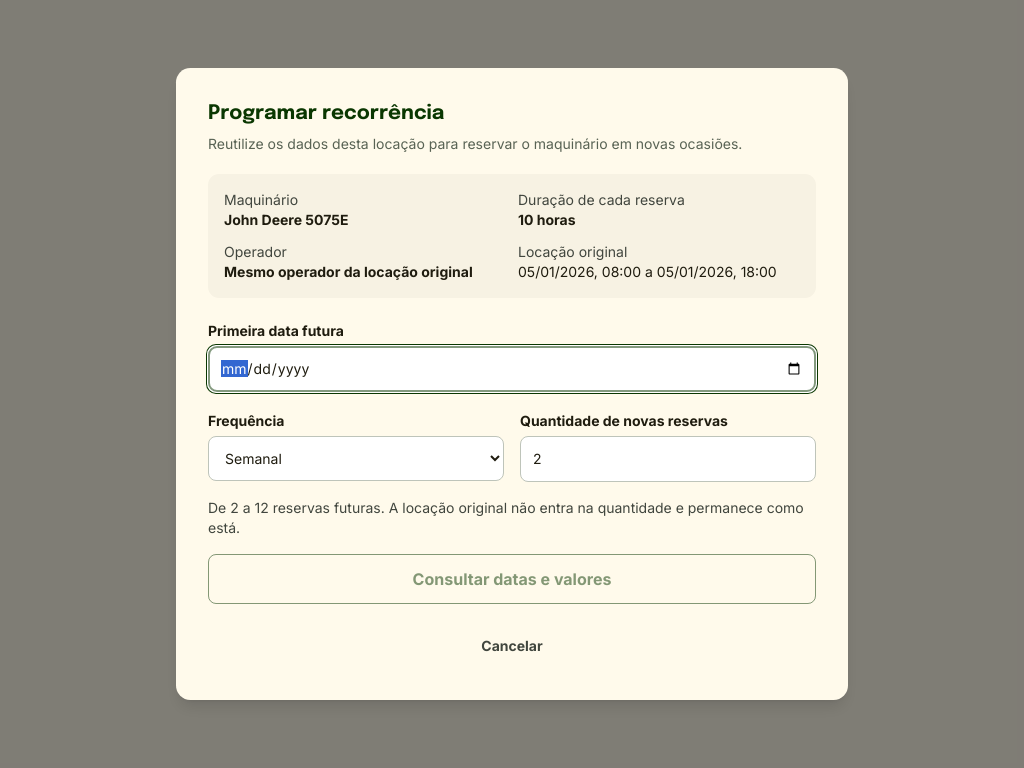
Test: programar recorrência › creates a valid stable UUID on HTTP deployments without randomUUID
In the date field labelled "Primeira data futura": point(512, 369) left=208, top=346, right=816, bottom=392, type "2099-10-05"
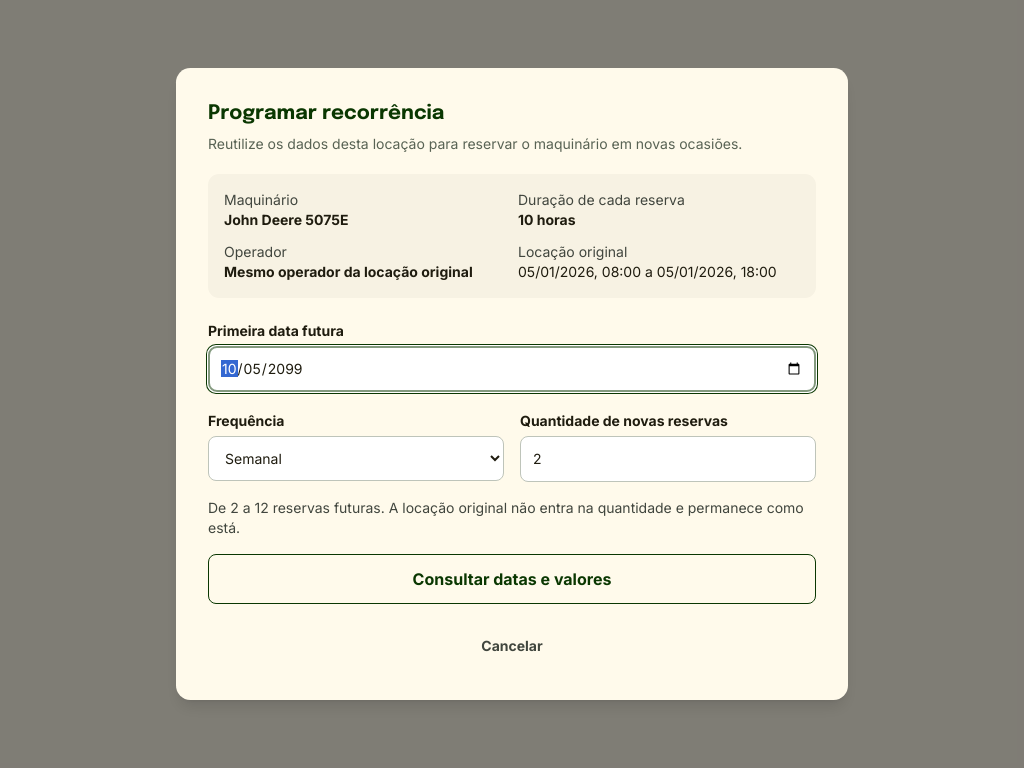
Click the button "Consultar datas e valores": point(512, 579) left=208, top=554, right=816, bottom=604
(page scrolled)
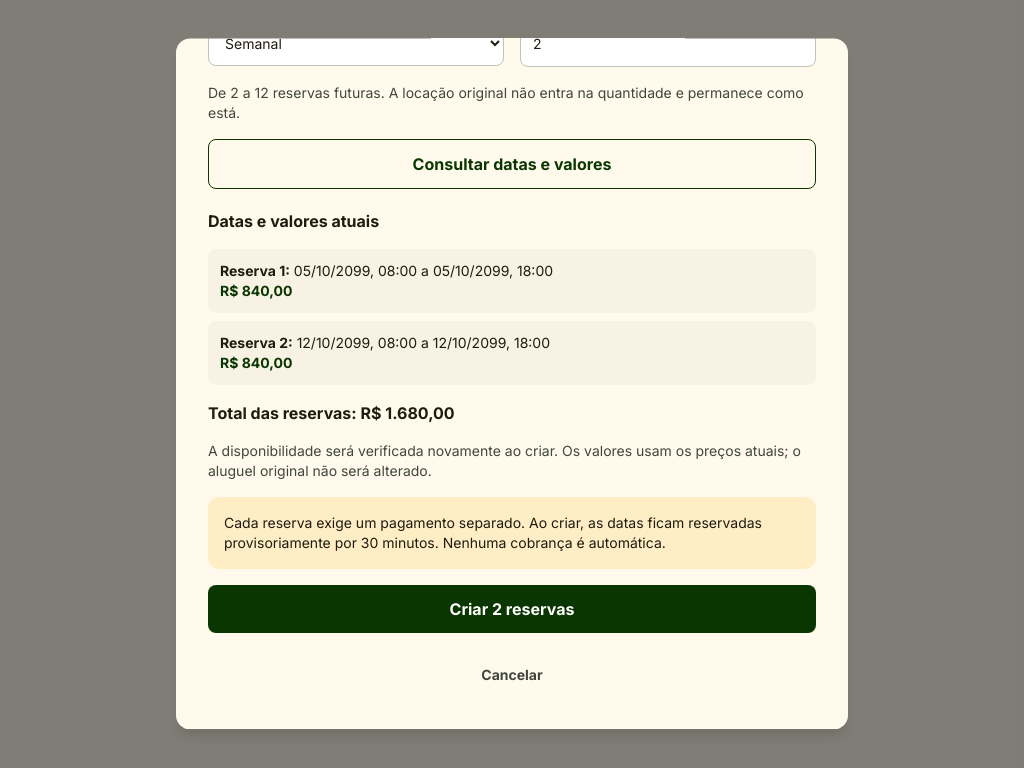
Result: the element named "Prévia da recorrência" is shown at left=208, top=209, right=816, bottom=633
Click the button "Criar 2 reservas": point(512, 609) left=208, top=585, right=816, bottom=633
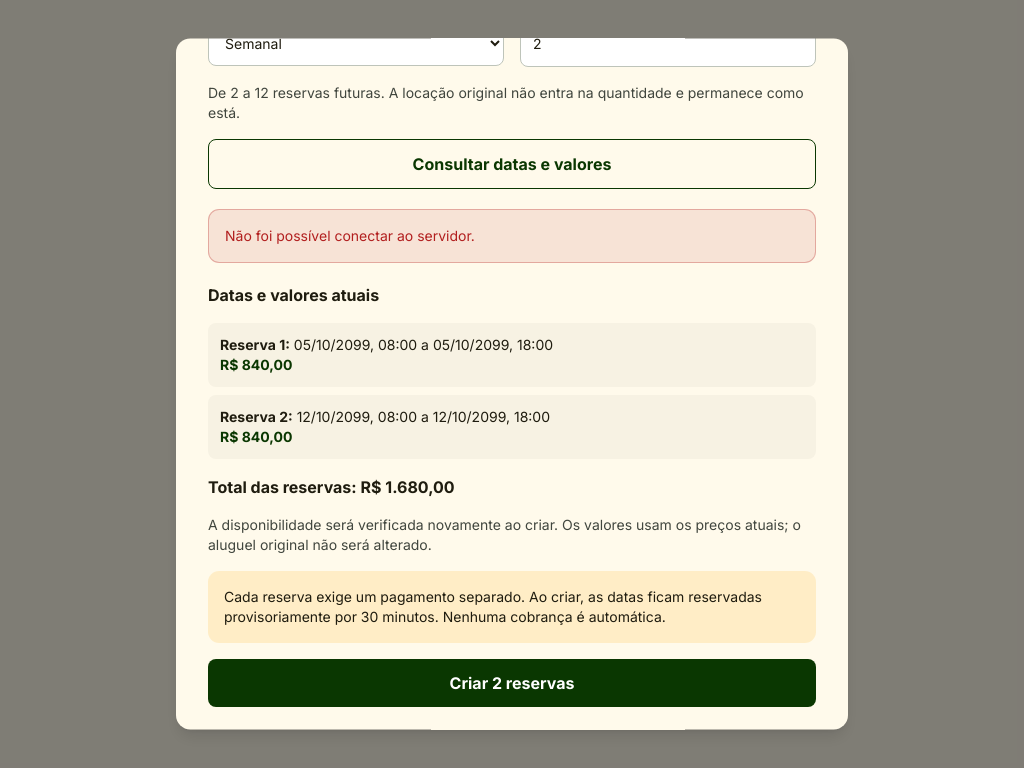
Result: the message "Não foi possível conectar ao servidor." is shown at left=208, top=209, right=816, bottom=263
Click the button "Criar 2 reservas": point(512, 683) left=208, top=659, right=816, bottom=707
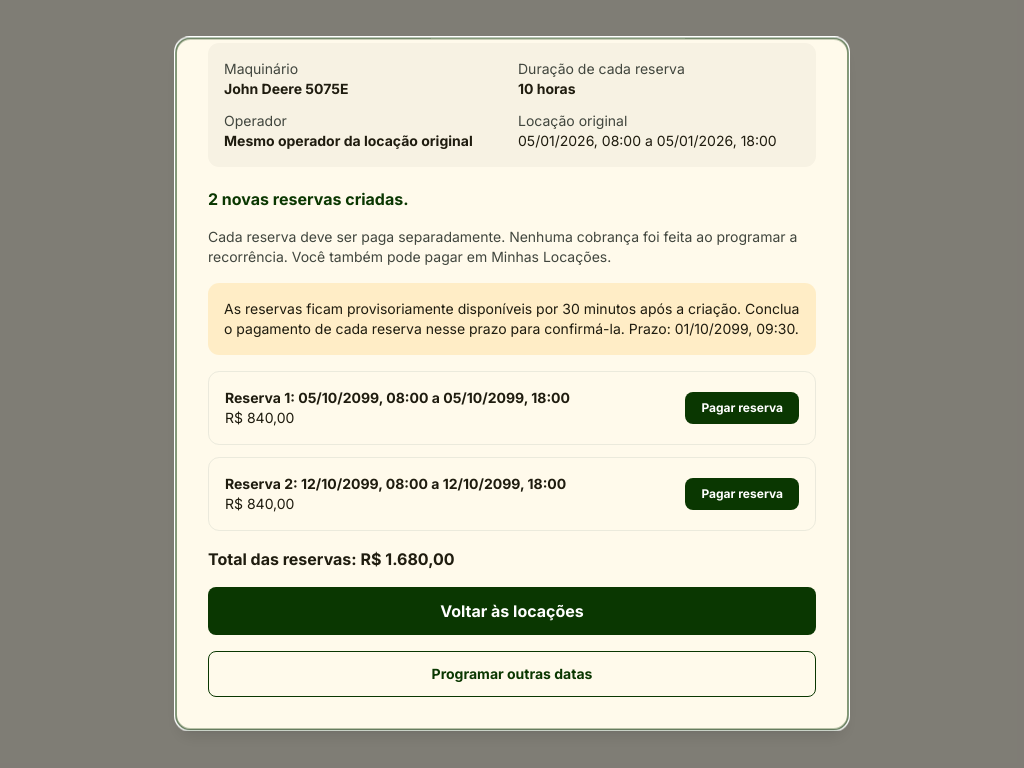
Result: the text "2 novas reservas criadas." is shown at left=208, top=189, right=408, bottom=209
